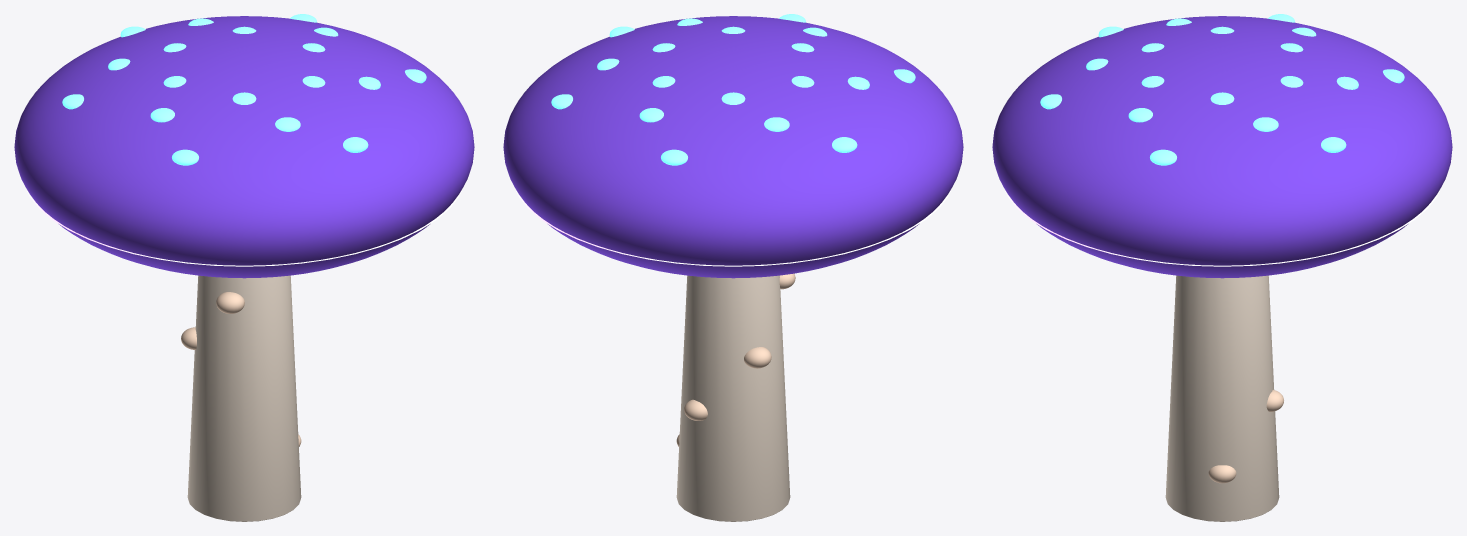
File: jamur-raksasa.glb
3 views of the same model, side by side, from view 1: azimuth 30°, elevation 25°; view 2: azimuth 150°, elevation 25°; view 3: azimuth 270°, elevation 25° (orthographic).
Parts seen in each view (by area): view 1: Sphere.005, Cone, Cone.001; view 2: Sphere.005, Cone, Cone.001; view 3: Sphere.005, Cone, Cone.001.
Part boxes in pixels (<box>): Sphere.005: <box>14,16,474,278</box>; Cone: <box>187,275,301,521</box>; Cone.001: <box>24,185,464,266</box>; Sphere.005: <box>503,16,963,278</box>; Cone: <box>676,275,790,521</box>; Cone.001: <box>513,185,953,266</box>; Sphere.005: <box>992,16,1452,278</box>; Cone: <box>1165,275,1279,521</box>; Cone.001: <box>1002,185,1442,266</box>.
Bounding box in the file's own units: 17.82 × 18.77 × 17.82.
